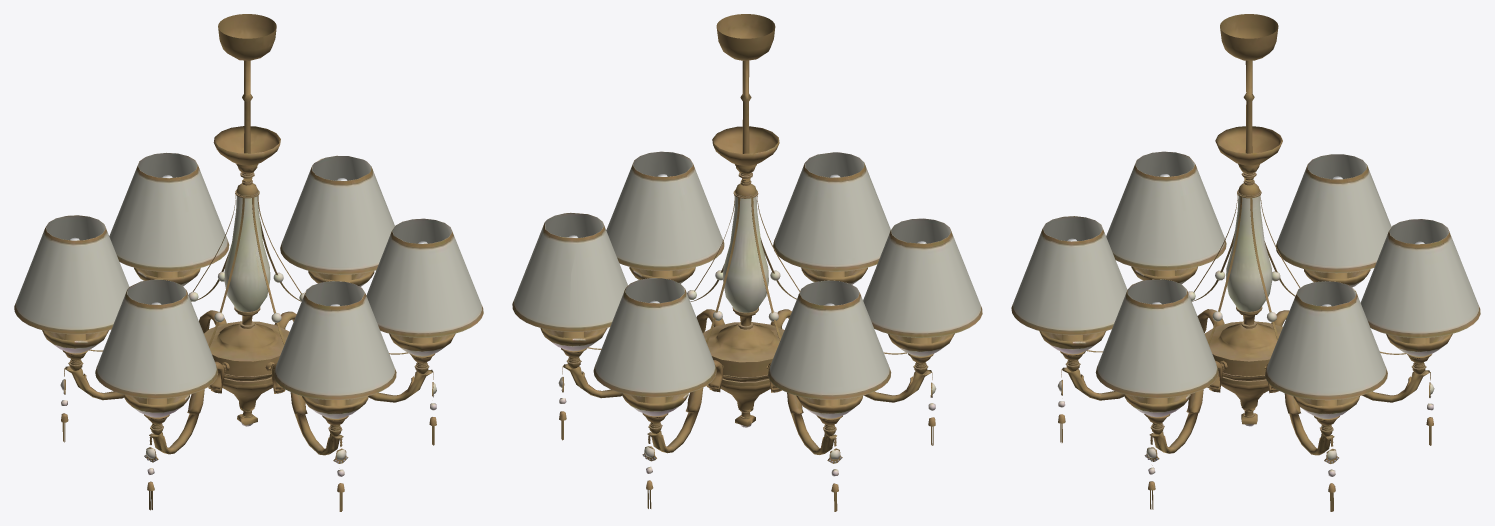
File: Chandelier_01_512.glb
3 views of the same model, side by side, from view 1: azimuth 30°, elevation 25°; view 2: azimuth 150°, elevation 25°; view 3: azimuth 270°, elevation 25° (orthographic).
Visible parts, largest first — view 1: Chandelier_01; view 2: Chandelier_01; view 3: Chandelier_01.
Part boxes in pixels (<box>): Chandelier_01: <box>14,14,483,511</box>; Chandelier_01: <box>512,14,982,511</box>; Chandelier_01: <box>1011,14,1480,511</box>.
Size of the model in its own units: 0.7465 by 0.7982 by 0.8155.
Materials: 2 (1 with a texture image).
